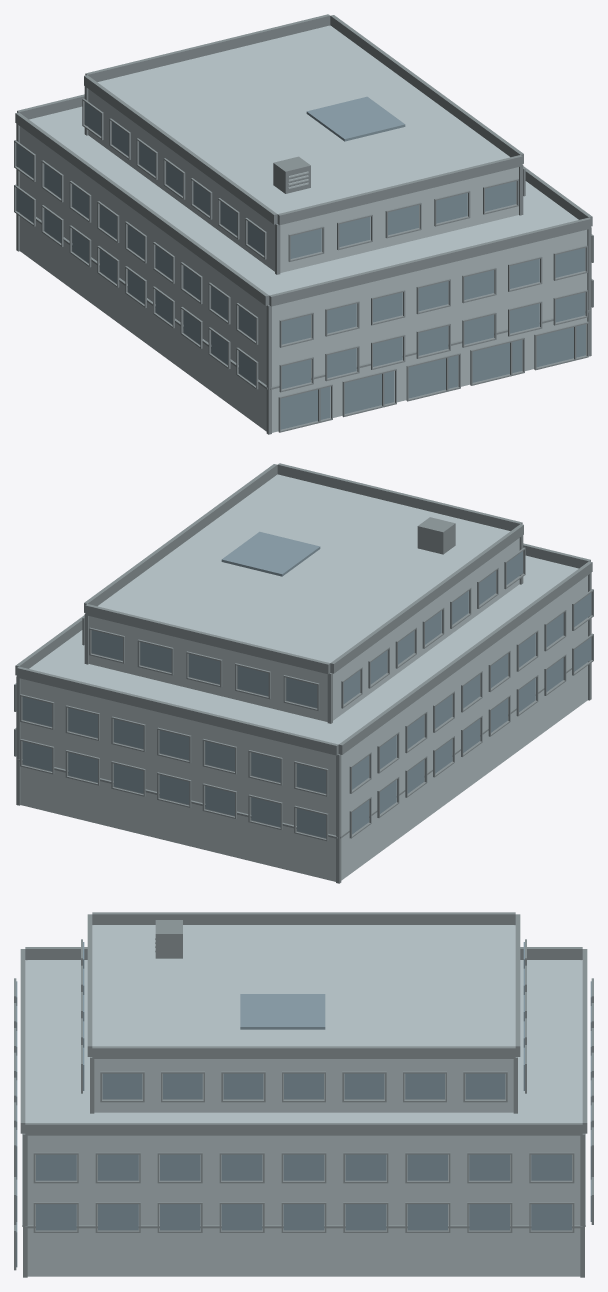
Rendered from lot_3x4_slab.glb.
The picture shows the model from 3 angles, top to bottom: view 1: azimuth 30°, elevation 25°; view 2: azimuth 150°, elevation 25°; view 3: azimuth 270°, elevation 25°; orthographic projection. The views are drawn at different scales.
Visible parts, largest first — view 1: lot_3x4_slab; view 2: lot_3x4_slab; view 3: lot_3x4_slab.
Part boxes in pixels (<box>): lot_3x4_slab: <box>14,14,593,434</box>; lot_3x4_slab: <box>14,463,593,883</box>; lot_3x4_slab: <box>14,912,593,1277</box>.
Size of the model in its own units: 23.74 by 13.5 by 31.74.
